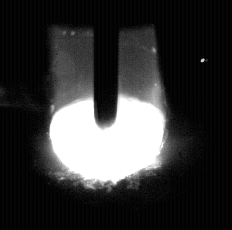arame: (94, 0, 119, 129)
poca: (49, 0, 169, 230)
